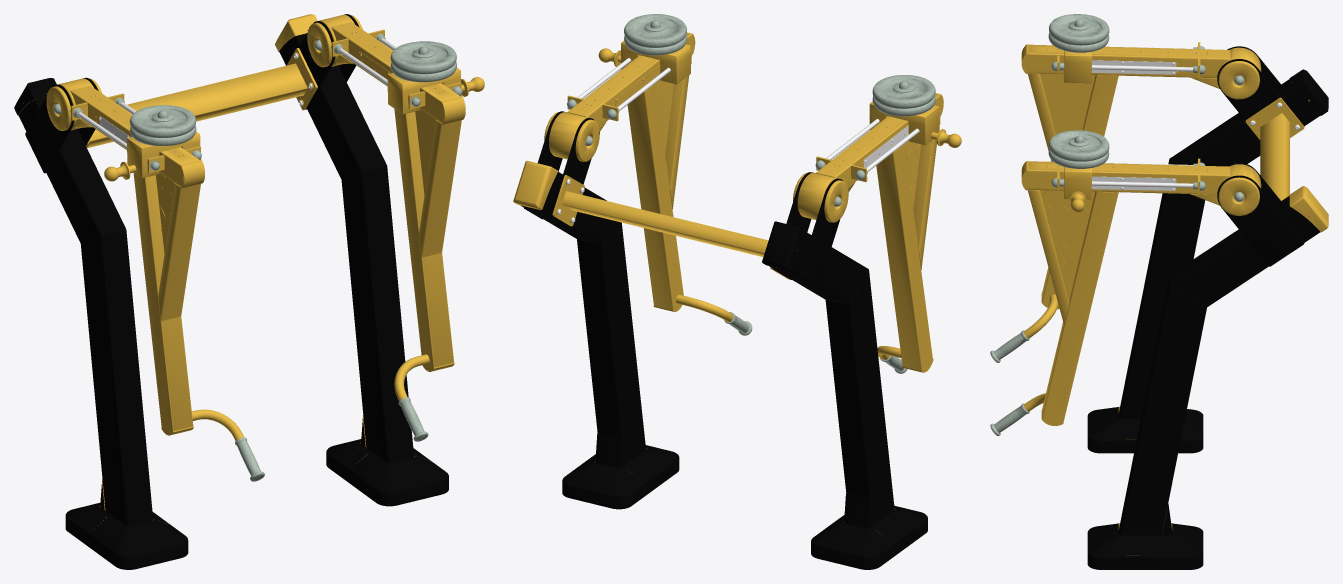
The picture shows the model from 3 angles, left to right: view 1: azimuth 30°, elevation 25°; view 2: azimuth 150°, elevation 25°; view 3: azimuth 270°, elevation 25°; orthographic projection. The views are drawn at different scales.
Visible parts, largest first — view 1: Geom3D (×3), Geom3D_008.STL#1; view 2: Geom3D (×3), Geom3D_008.STL#1; view 3: Geom3D (×3), Geom3D_008.STL#1.
Part boxes in pixels (left/top/right/bottom): Geom3D (×3): left=14, top=14, right=462, bottom=569; Geom3D_008.STL#1: left=18, top=14, right=484, bottom=528; Geom3D (×3): left=520, top=14, right=940, bottom=569; Geom3D_008.STL#1: left=513, top=32, right=961, bottom=535; Geom3D (×3): left=990, top=14, right=1328, bottom=569; Geom3D_008.STL#1: left=1021, top=42, right=1328, bottom=555.
Size of the model in its own units: 1.45 by 1.67 by 1.23.
Materials: 4 (1 with a texture image).
